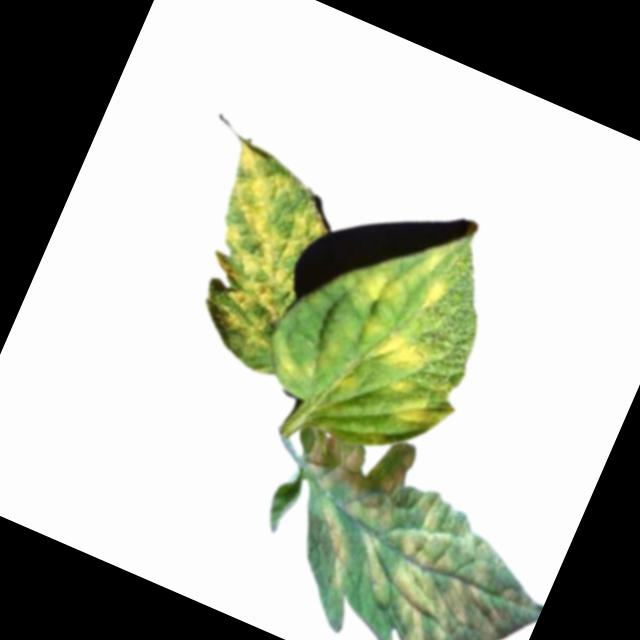Leaf_Mold: (251, 428, 573, 640), (154, 137, 341, 379), (347, 310, 435, 379), (379, 375, 458, 439), (265, 334, 325, 393), (348, 259, 408, 313), (414, 267, 454, 316)
